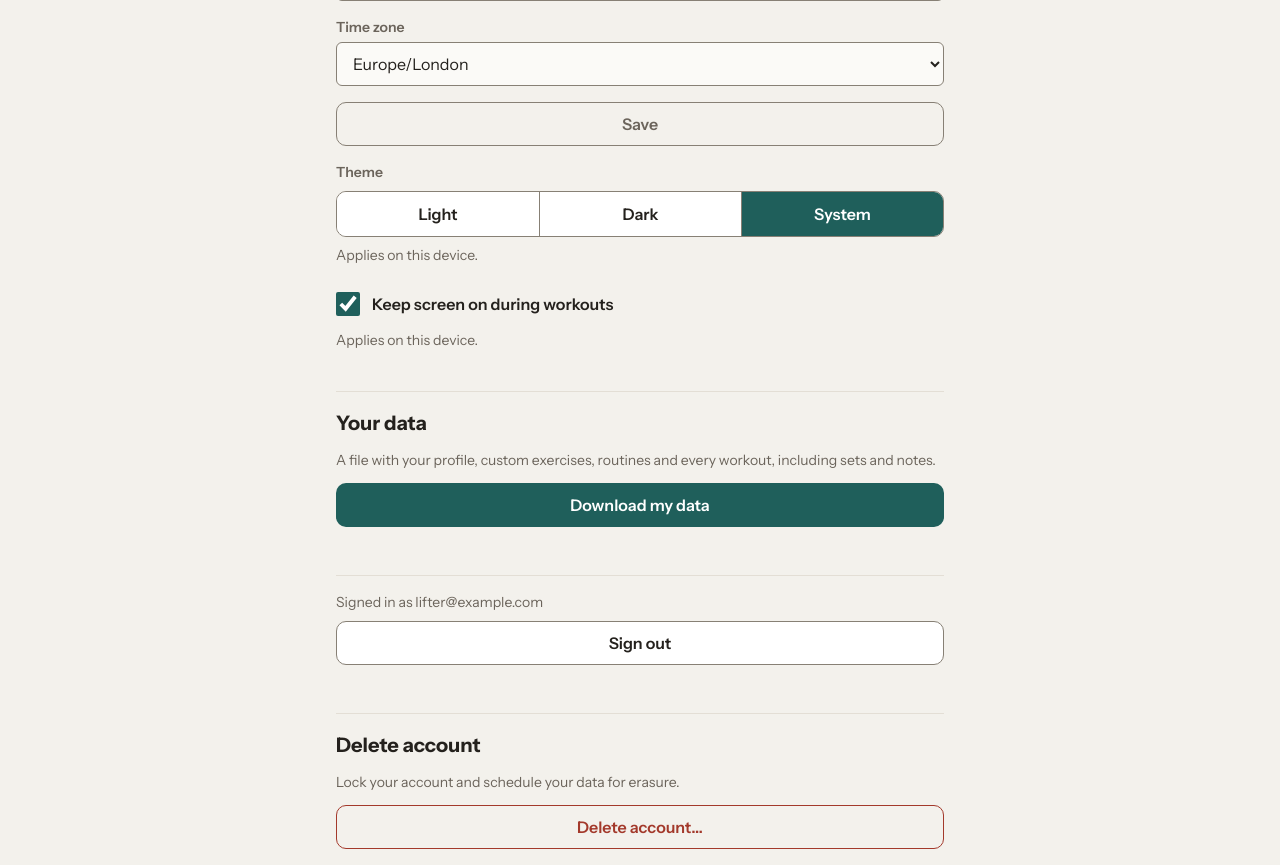
12 AC23 — accessibility › the dialog is labeled by its title and errors are role=alert text, not color alone
(page scrolled)
Click the button "Delete account…" at (640, 827), box [336,805,944,849]
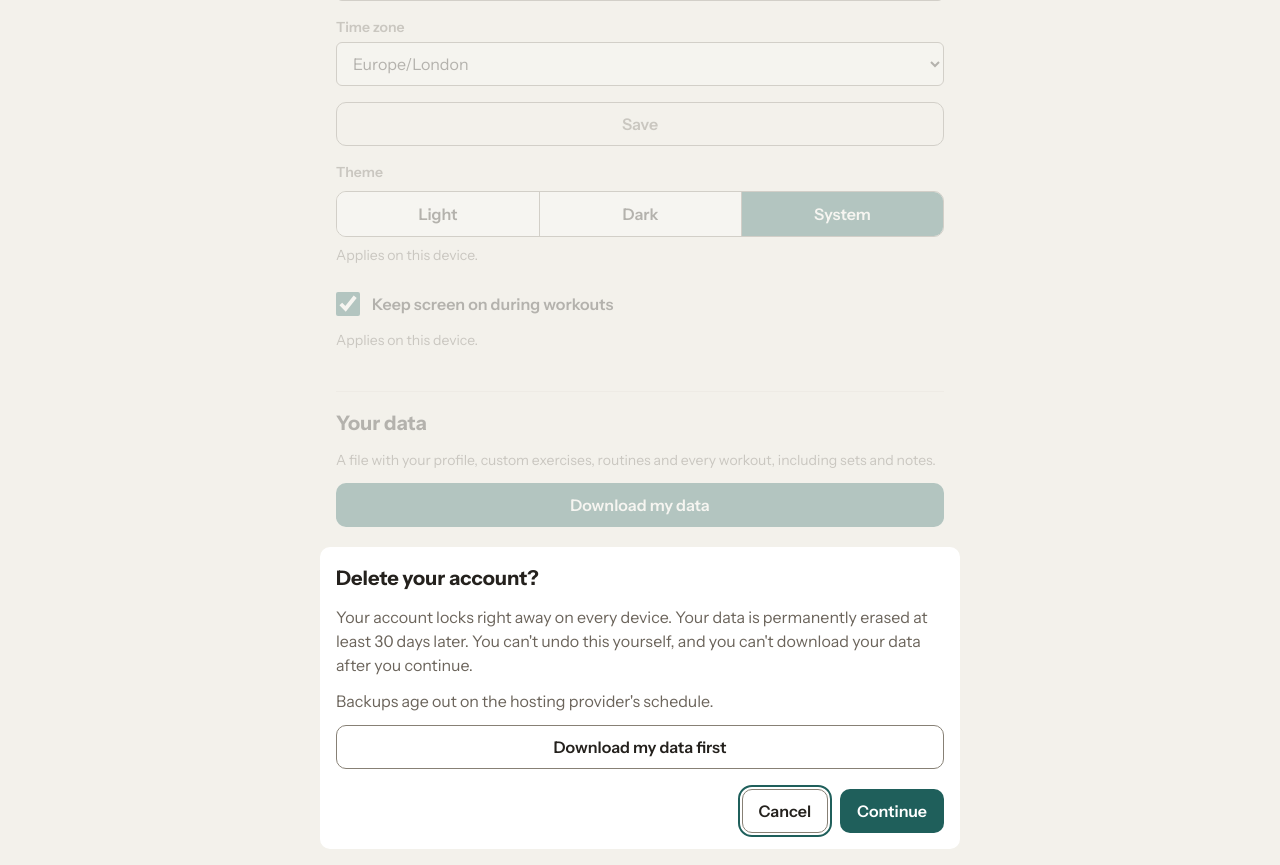
Click the button "Continue" at (892, 811), box [840,789,944,833]
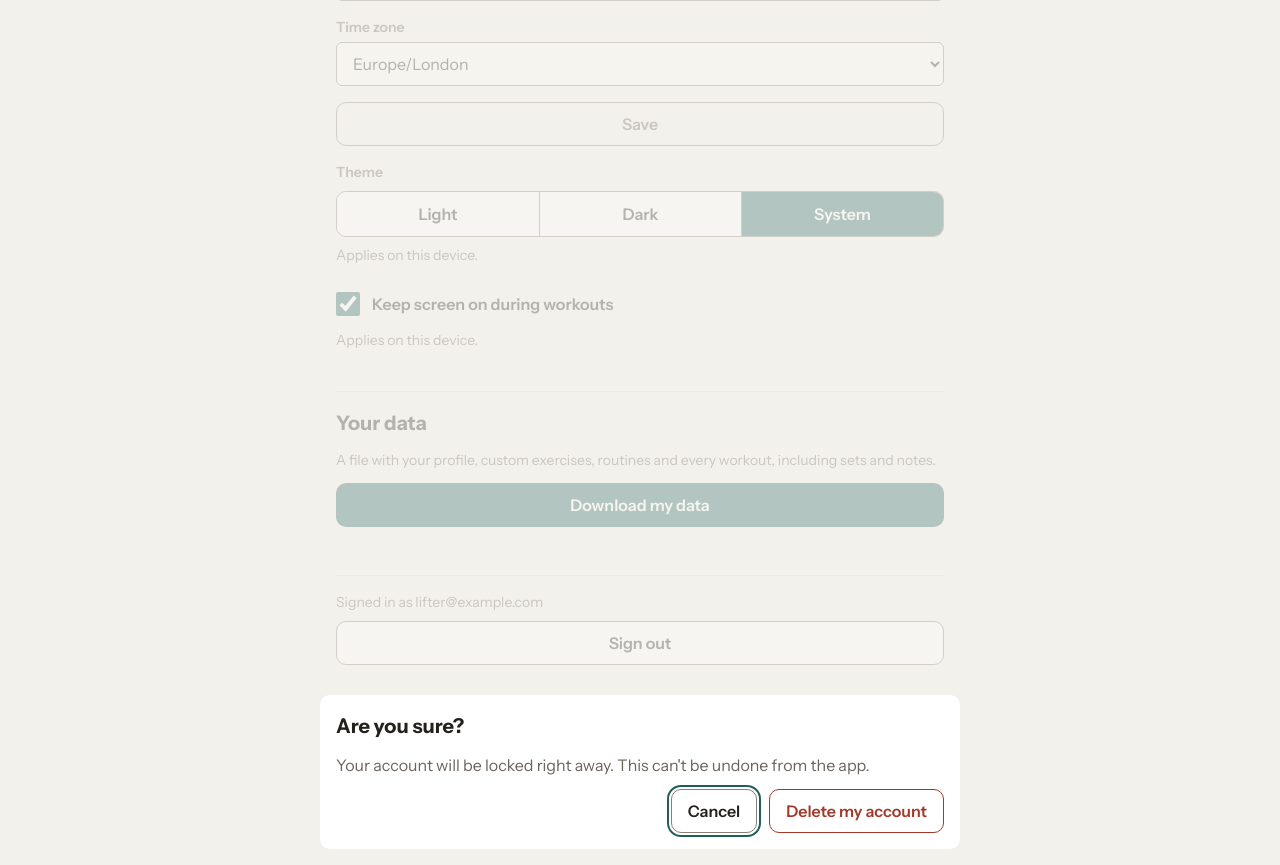
Check: the button "Delete my account" is enabled
Click the button "Delete my account" at (857, 811), box [769,789,944,833]
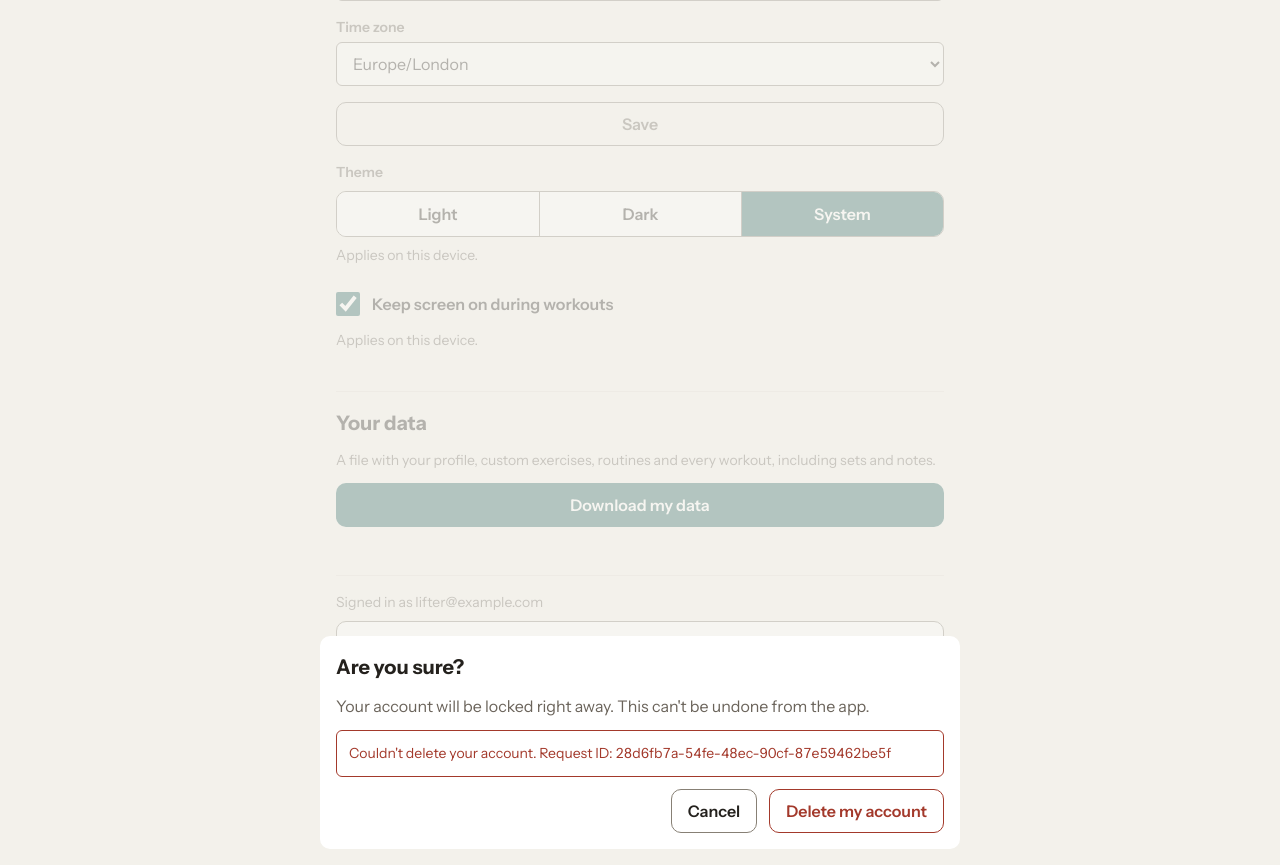
Check: the message shows "Couldn't delete your account.", box [349,744,536,762]
